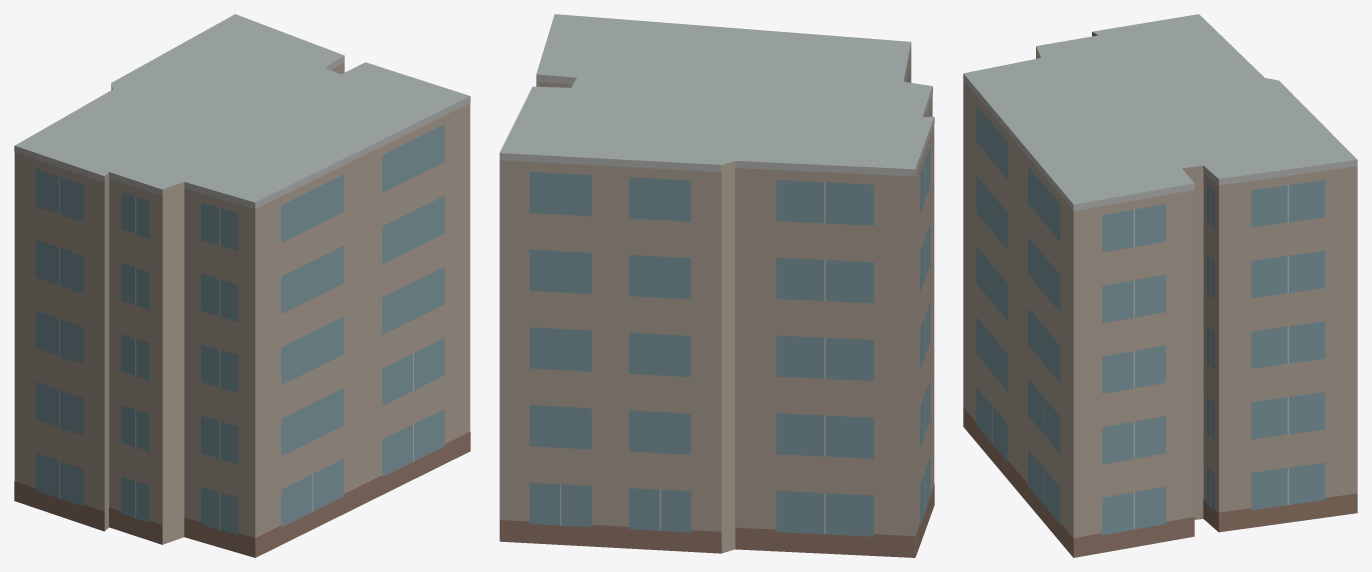
The model's file is survey-upis-32869830.glb.
The picture shows the model from 3 angles, left to right: view 1: azimuth 30°, elevation 25°; view 2: azimuth 150°, elevation 25°; view 3: azimuth 270°, elevation 25°; orthographic projection. The views are drawn at different scales.
Visible parts, largest first — view 1: survey-upis-32869830.tmp; view 2: survey-upis-32869830.tmp; view 3: survey-upis-32869830.tmp.
Boxes of the visible parts, x1,y1,x2,y2 form: survey-upis-32869830.tmp: (14, 14, 470, 557); survey-upis-32869830.tmp: (499, 14, 934, 557); survey-upis-32869830.tmp: (963, 14, 1357, 557).
Bounding box in the file's own units: 15.28 × 13.2 × 13.36.
